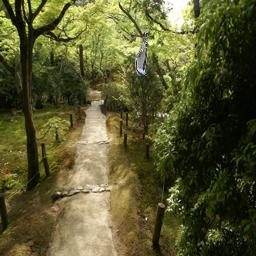Swallow: (136, 32, 149, 77)
